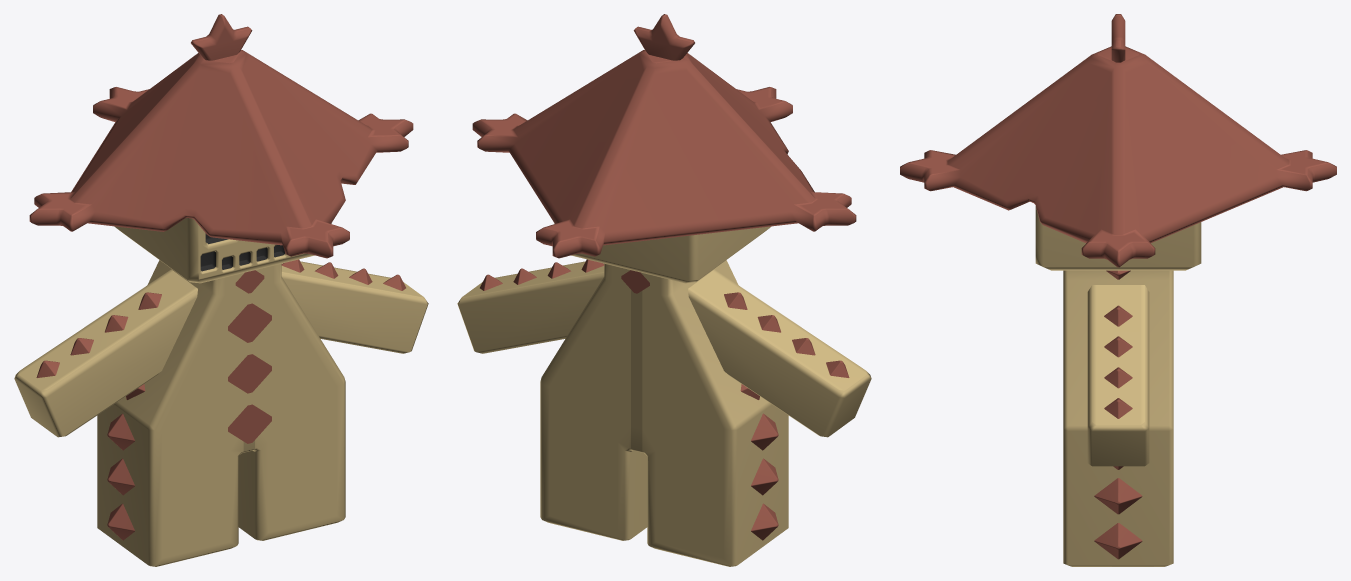
3 renders of one model, left to right at view 1: azimuth 30°, elevation 25°; view 2: azimuth 150°, elevation 25°; view 3: azimuth 270°, elevation 25°, orthographic.
Visible parts, largest first — view 1: model; view 2: model; view 3: model.
Boxes of the visible parts, x1,y1,x2,y2 form: model: (14,14,428,566); model: (457,14,871,566); model: (900,14,1336,566).
Bounding box in the file's own units: 2.4 × 3.03 × 2.37.
